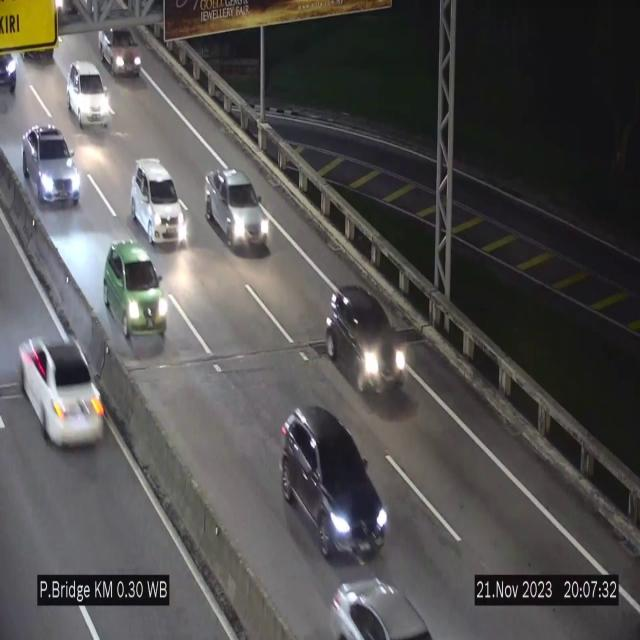Car: (8, 308, 122, 470), (280, 405, 388, 561), (324, 281, 411, 401), (318, 562, 433, 640), (100, 239, 171, 344), (204, 168, 270, 254), (131, 158, 187, 245), (22, 126, 80, 204), (67, 61, 111, 129), (99, 31, 143, 83), (0, 40, 26, 97)
